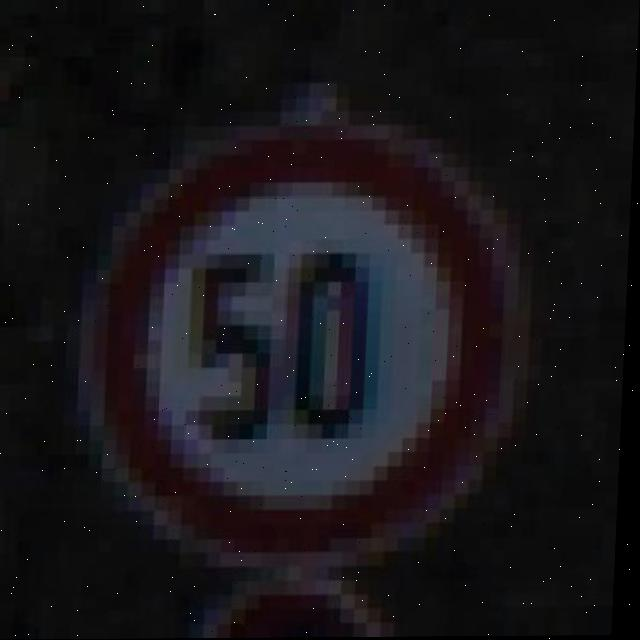Speed limit 50: (76, 96, 542, 637)
